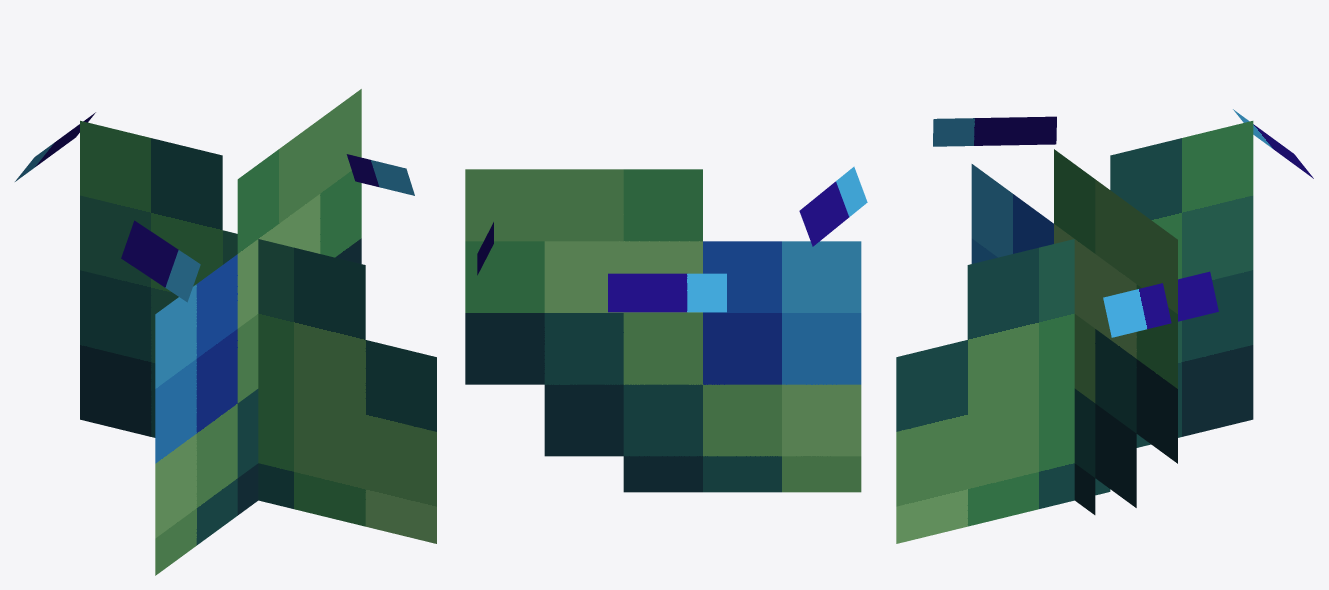
File: plam_stem_stage1.obj
The picture shows the model from 3 angles, left to right: view 1: azimuth 30°, elevation 25°; view 2: azimuth 150°, elevation 25°; view 3: azimuth 270°, elevation 25°; orthographic projection. The views are drawn at different scales.
Visible parts, largest first — view 1: cube_2, cube_3, cube_6, cube_4, cube_5; view 2: cube_3, cube_5, cube_6; view 3: cube_2, cube_3, cube_4, cube_6, cube_5.
Part boxes in pixels (x1,y1,x2,y2): cube_2: (80, 120, 436, 543); cube_3: (155, 89, 361, 575); cube_6: (121, 220, 200, 302); cube_4: (346, 154, 414, 195); cube_5: (15, 112, 95, 181); cube_3: (465, 169, 861, 492); cube_5: (608, 273, 726, 312); cube_6: (799, 166, 867, 246); cube_2: (896, 121, 1253, 543); cube_3: (971, 149, 1177, 514); cube_4: (1103, 271, 1218, 337); cube_6: (933, 116, 1056, 146); cube_5: (1233, 109, 1313, 178).
Size of the model in its own units: 0.5786 by 0.6875 by 0.6344.
